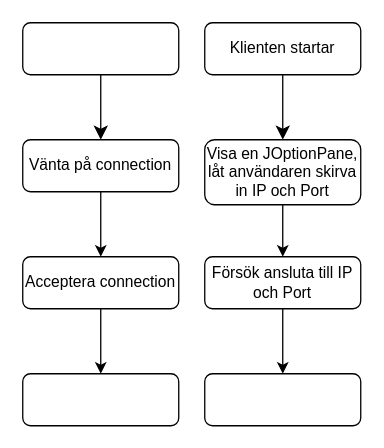
Image size: 384x448. Some labels were removed from this diagram. The shapes that lost their labels are listed below. From the top down, each one's box as (x1, y1, x2, y2) in pixels, then its label:
(21, 21, 179, 75): Servern startar
(21, 372, 179, 426): Börja skicka bilder till klienten
(203, 372, 361, 426): Visa serverns skärm i en JFrame
